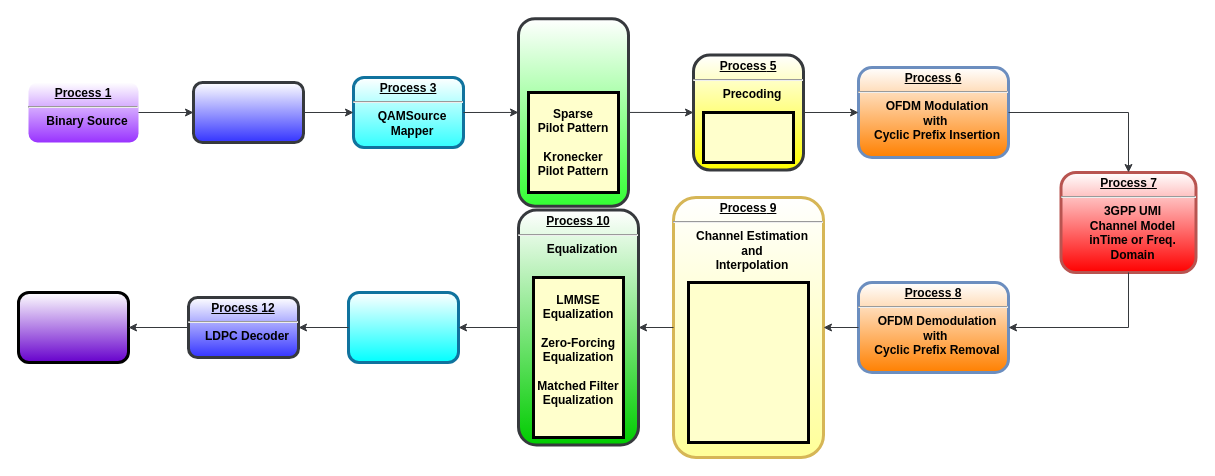
The diagram is 1215 pixels wide and 476 high, and some of its shapes have lost their labels. Each missing label, with the box of its shape:
Linear Interpolation Nearest Neighboor Interpolation LMMSE Interpolation: (686, 280, 810, 444)
Process 11 QAM Source Demapper: (346, 290, 460, 364)
Process 13 Compute Bit error rate: (16, 290, 130, 364)
Process 2 LDPC Encoder: (192, 80, 304, 144)
Process 4 Resource Grid with Pilot Pattern: (516, 17, 630, 207)
Zero-Forcing Precoding: (702, 110, 794, 164)
